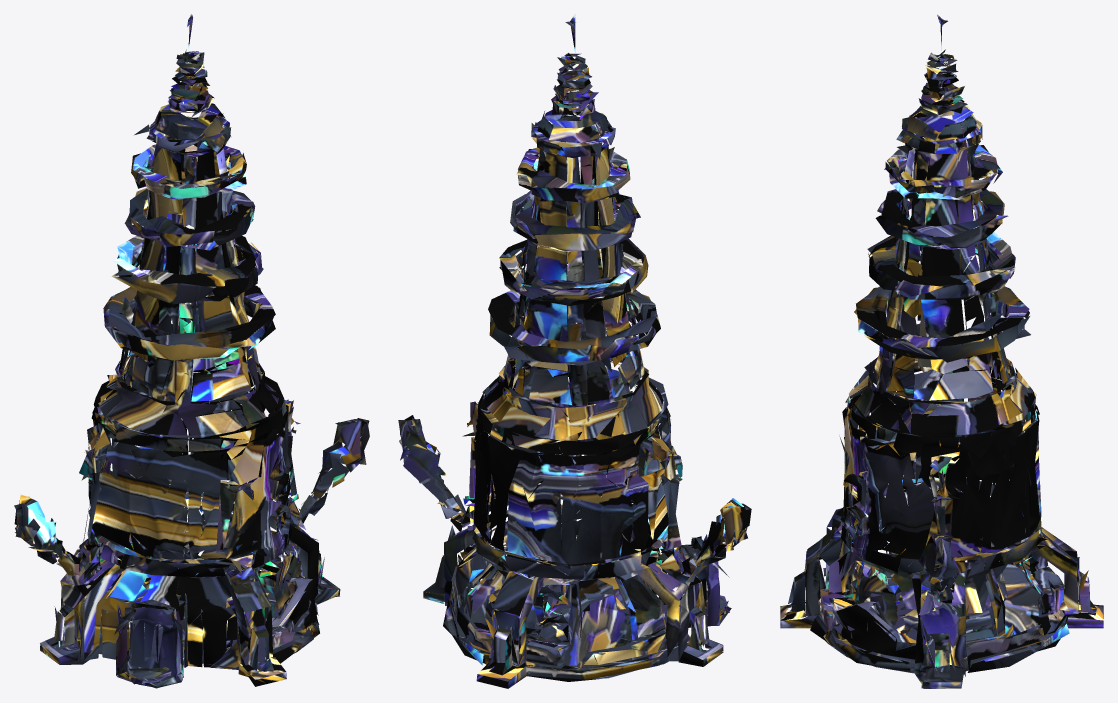
The model's file is tower_tesla_3d_LOD2.fbx.
3 views of the same model, side by side, from view 1: azimuth 30°, elevation 25°; view 2: azimuth 150°, elevation 25°; view 3: azimuth 270°, elevation 25° (orthographic).
Visible parts, largest first — view 1: Mesh1.0; view 2: Mesh1.0; view 3: Mesh1.0.
Boxes of the visible parts, <box> form: Mesh1.0: <box>14,14,369,688</box>; Mesh1.0: <box>398,14,751,688</box>; Mesh1.0: <box>780,14,1103,688</box>.
Bounding box in the file's own units: 75.67 × 126 × 60.32.
